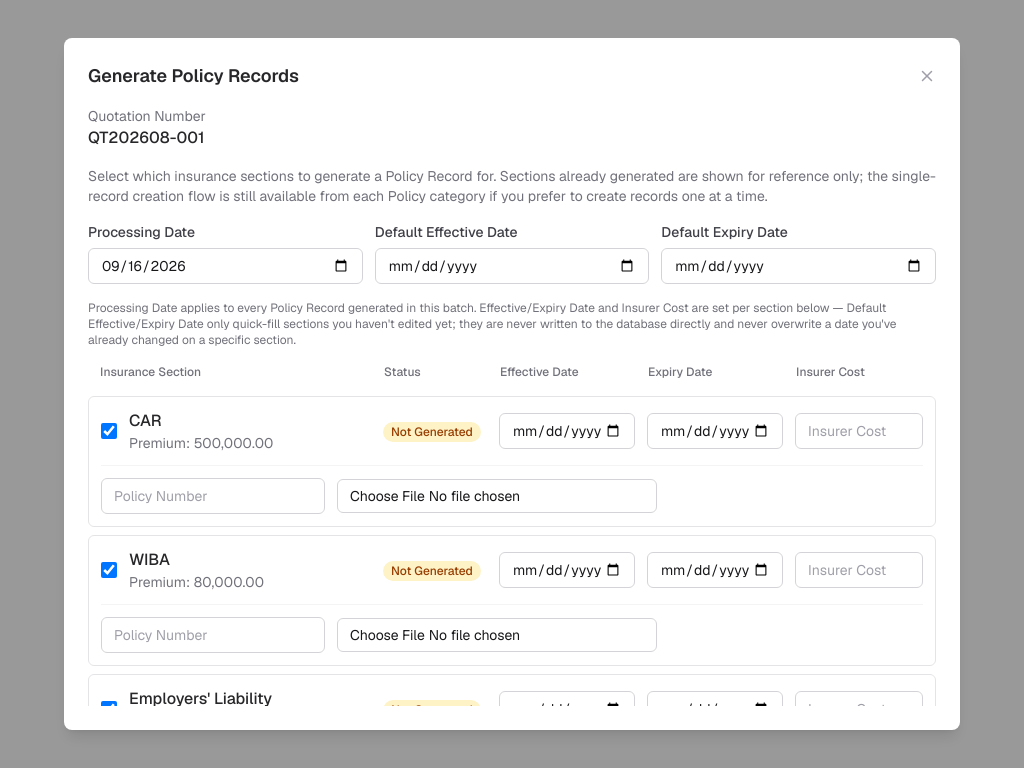
Scenario: GeneratePolicyRecordsModal — per-section dates › Default Effective Date fills every selected, untouched row but never overwrites a row the user already edited
User manually edits CAR's own Effective Date first.
Type "2026-08-20" into the date field named "Effective Date — CAR".
click(567, 431); type("2026-08-20")  # box [499,413,635,449]
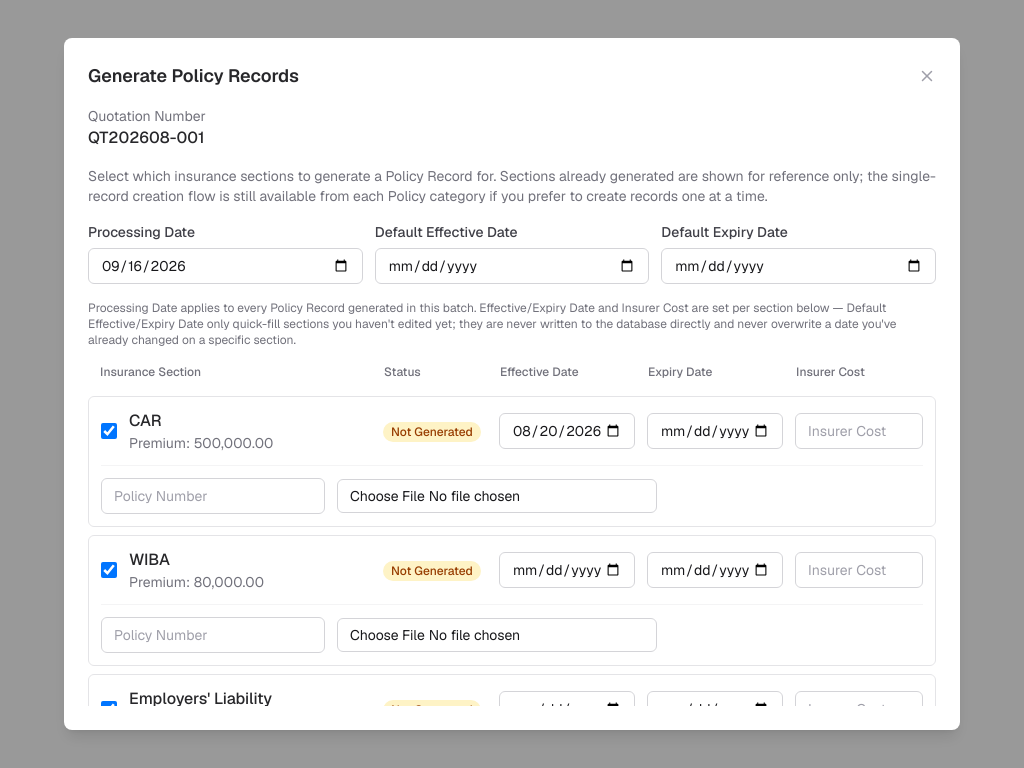
Then sets the top Default Effective Date.
Type "2026-09-01" into the date field labelled "Default Effective Date".
click(512, 266); type("2026-09-01")  # box [375,248,649,284]
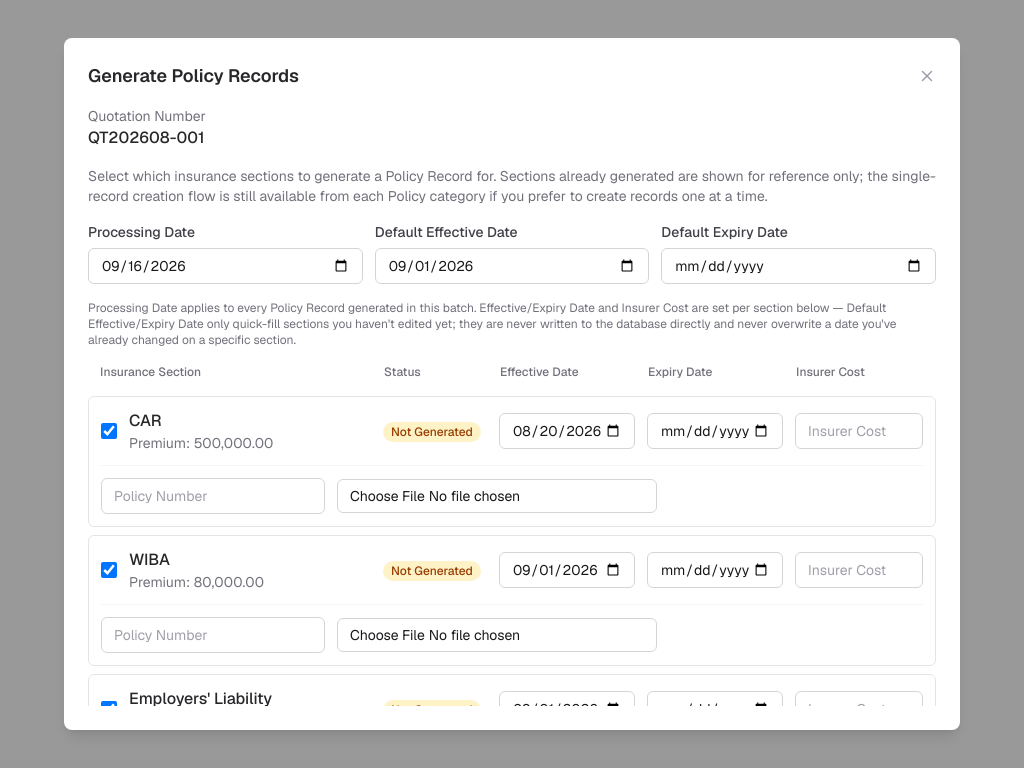
Now the date field named "Effective Date — WIBA" holds "2026-09-01", box [499,552,635,588]
